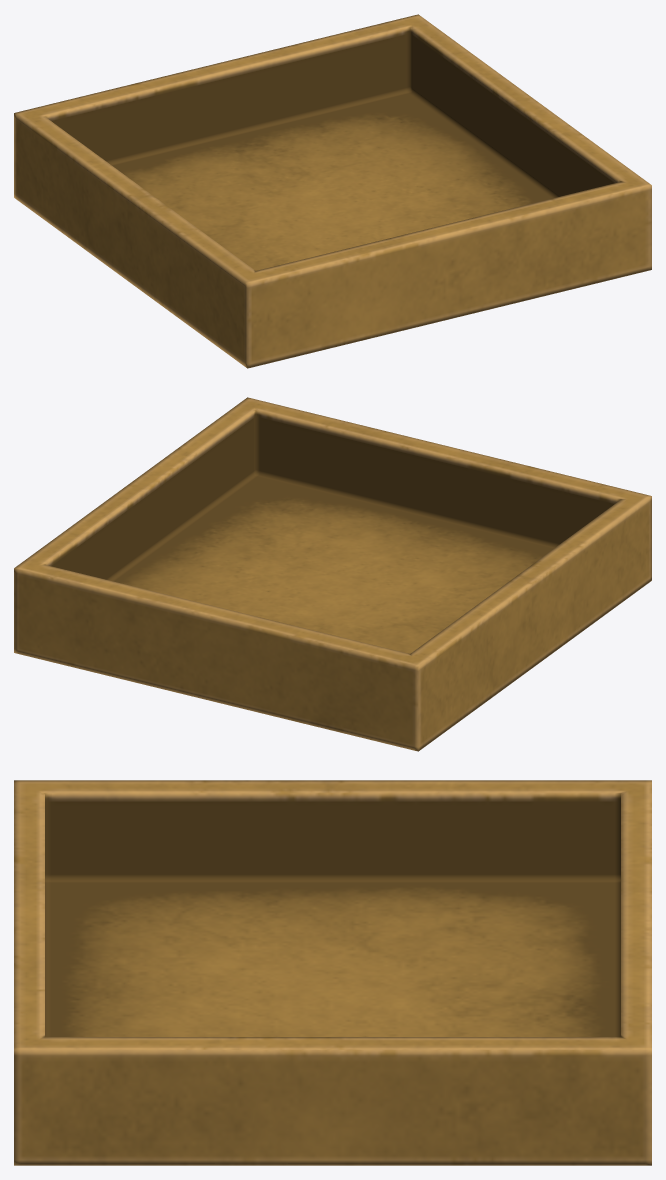
Rendered from boardPiece.glb.
3 views of the same model, one above another, from view 1: azimuth 30°, elevation 25°; view 2: azimuth 150°, elevation 25°; view 3: azimuth 270°, elevation 25° (orthographic). The views are drawn at different scales.
Parts seen in each view (by area): view 1: mesh_003_low.009; view 2: mesh_003_low.009; view 3: mesh_003_low.009.
Part boxes in pixels (x1,y1,x2,y2): mesh_003_low.009: (14, 14, 651, 368); mesh_003_low.009: (14, 397, 651, 751); mesh_003_low.009: (14, 780, 651, 1165).
Size of the model in its own units: 1 by 0.2 by 1.
Materials: 1 (1 with a texture image).
